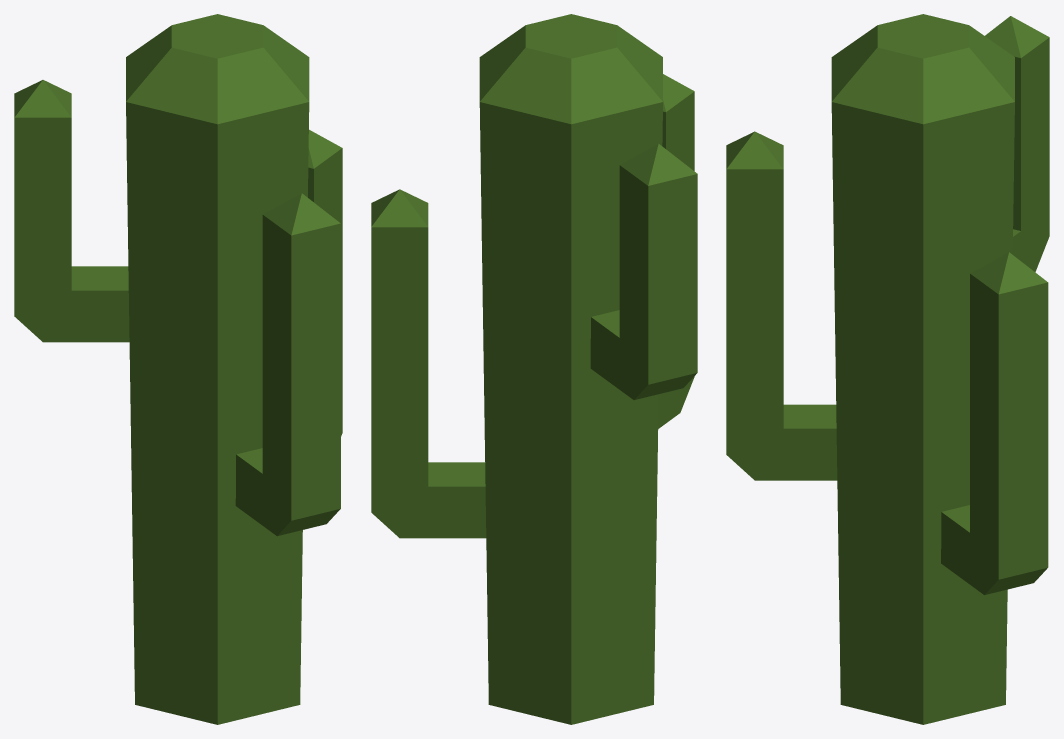
The model's file is cactus_tall.glb.
The picture shows the model from 3 angles, left to right: view 1: azimuth 30°, elevation 25°; view 2: azimuth 150°, elevation 25°; view 3: azimuth 270°, elevation 25°; orthographic projection.
Parts seen in each view (by area): view 1: cactus_tall; view 2: cactus_tall; view 3: cactus_tall.
Boxes of the visible parts, x1=… form: cactus_tall: x1=14, y1=14, x2=342, y2=724; cactus_tall: x1=371, y1=14, x2=697, y2=724; cactus_tall: x1=726, y1=14, x2=1049, y2=724.
Size of the model in its own units: 1.19 by 2.25 by 1.02.
Materials: 1 (1 with a texture image).
